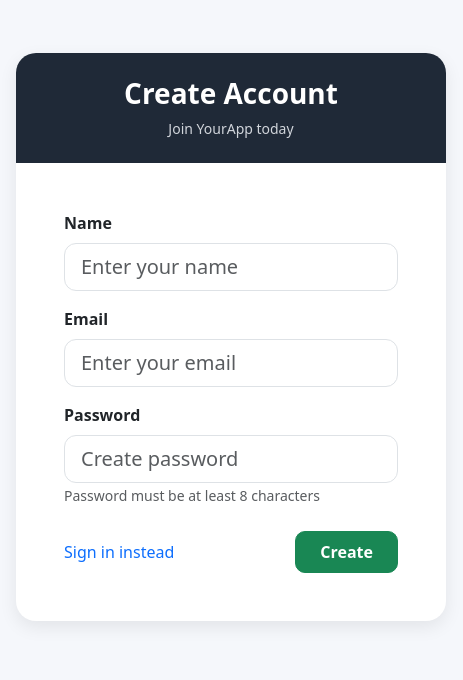
it: Ce › 登録成功
Type "test" into the field with placeholder "Enter your name" at [231, 267], box [64, 243, 398, 291]
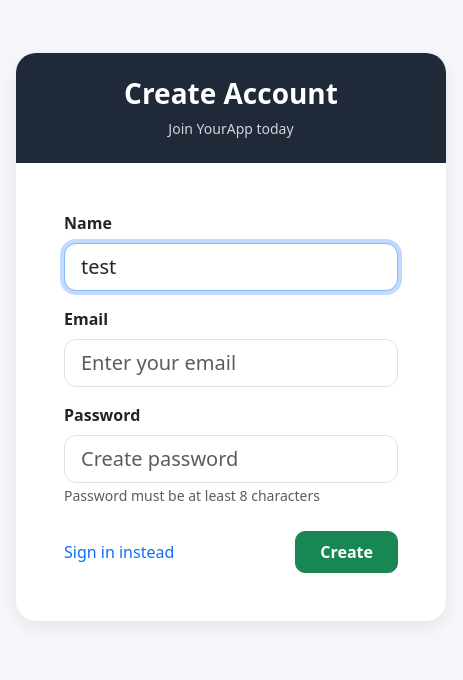
Type "test@test.com" into the field with placeholder "Enter your email" at [231, 363], box [64, 339, 398, 387]
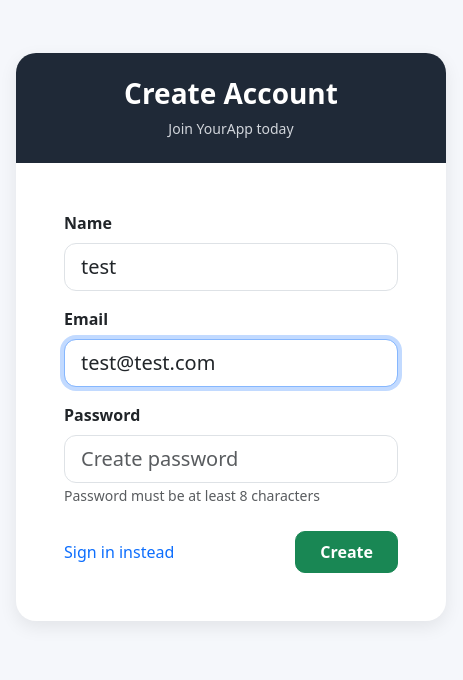
Type "password123" into the password field with placeholder "Create password" at [231, 459], box [64, 435, 398, 483]
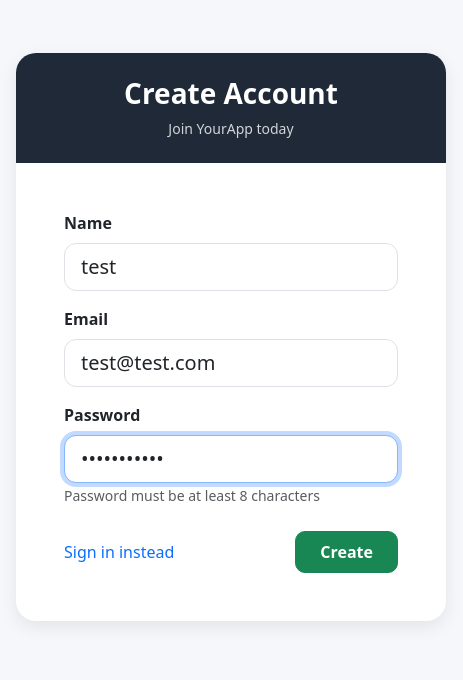
Click the button "Create" at [347, 552], box [295, 531, 398, 573]
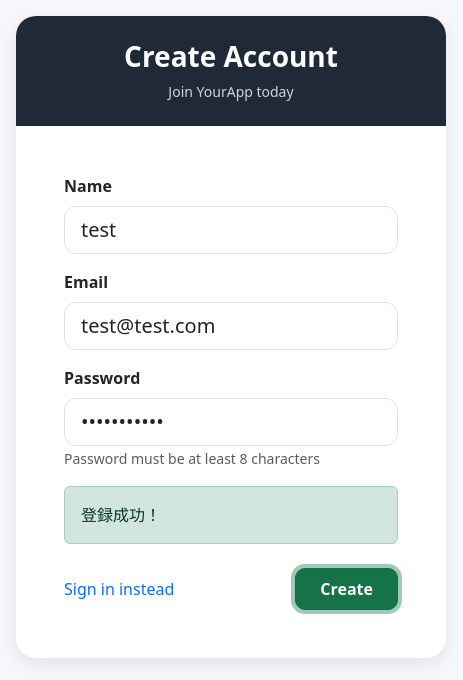
Expected: the text "登録成功！" is shown, [64, 486, 398, 544]
